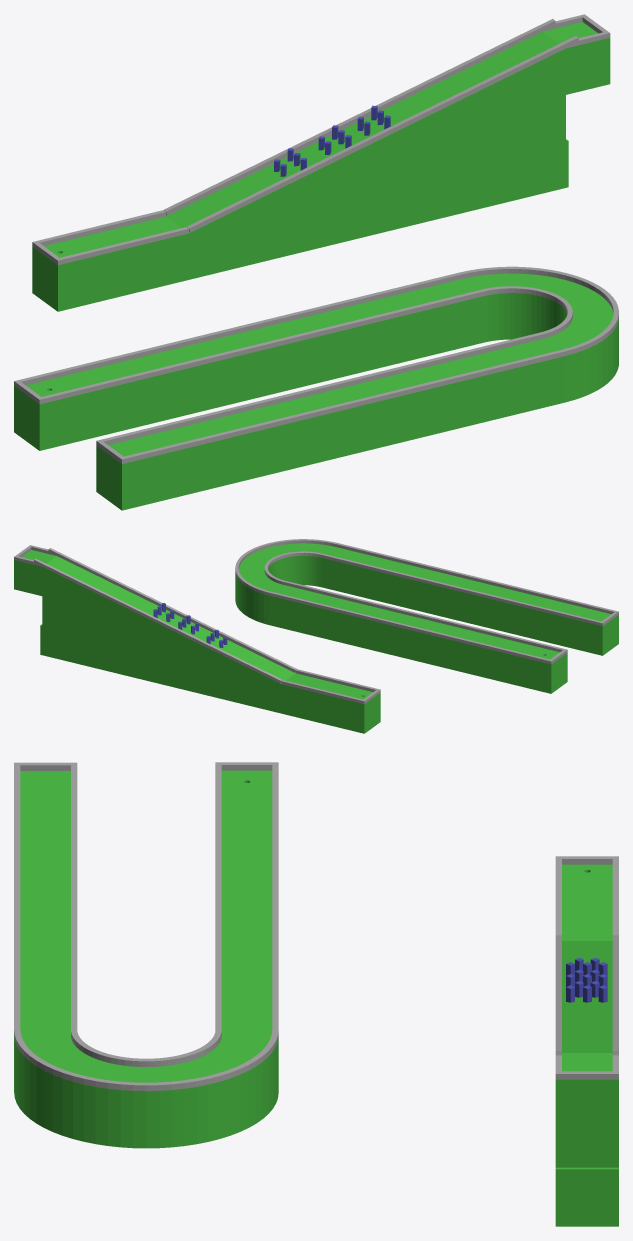
Rendered from Course1.fbx.
3 renders of one model, top to bottom at view 1: azimuth 30°, elevation 25°; view 2: azimuth 150°, elevation 25°; view 3: azimuth 270°, elevation 25°, orthographic. The views are drawn at different scales.
Parts seen in each view (by area): view 1: Cube.001, Cube, Cube.002, Cube.003, turnground, rightrail0.001, rightrail0, leftrail 0.001, leftrail 0, rightrail0.005, rightrail0.004, Cube.004 (+4 smaller); view 2: Cube.001, Cube, Cube.002, Cube.003, turnground, leftrail 0.001, leftrail 0, rightrail0.001, rightrail0, rightrail0.004, rightrail0.005, Cube.004 (+4 smaller); view 3: turnground, Cube.001, Cube, Cube.002, Cube.003, Cube.004, turnbackrail, rightrail0, rightrail0.001, leftrail 0.001, leftrail 0, turninrail.001 (+2 smaller).
Part boxes in pixels (x1,y1,x2,y2): Cube.001: (14,279,483,450); Cube: (96,339,565,510); Cube.002: (32,139,568,311); Cube.003: (166,31,565,233); turnground: (461,273,618,401); rightrail0.001: (37,290,483,404); rightrail0: (119,349,565,463); leftrail 0.001: (14,273,460,387); leftrail 0: (96,332,542,446); rightrail0.005: (187,36,578,232); rightrail0.004: (164,19,555,215); Cube.004: (543,22,610,94); Cube.001: (269,585,567,693); Cube: (321,547,618,655); Cube.002: (40,624,380,733); Cube.003: (42,556,295,683); turnground: (235,543,335,624); leftrail 0.001: (269,591,552,664); leftrail 0: (321,553,604,626); rightrail0.001: (284,581,567,653); rightrail0: (336,543,618,615); rightrail0.004: (33,558,282,683); rightrail0.005: (48,548,296,672); Cube.004: (14,550,56,595); turnground: (14,1035,278,1148); Cube.001: (221,770,272,1035); Cube: (14,771,70,1092); Cube.002: (555,864,618,1226); Cube.003: (555,941,618,1167); Cube.004: (555,1053,618,1136); turnbackrail: (14,1029,278,1090); rightrail0: (14,762,20,1035); rightrail0.001: (215,762,221,1030); leftrail 0.001: (272,762,278,1029); leftrail 0: (71,762,77,1029); turninrail.001: (71,1029,221,1066).
Size of the model in its own units: 319 by 63.4 by 191.
